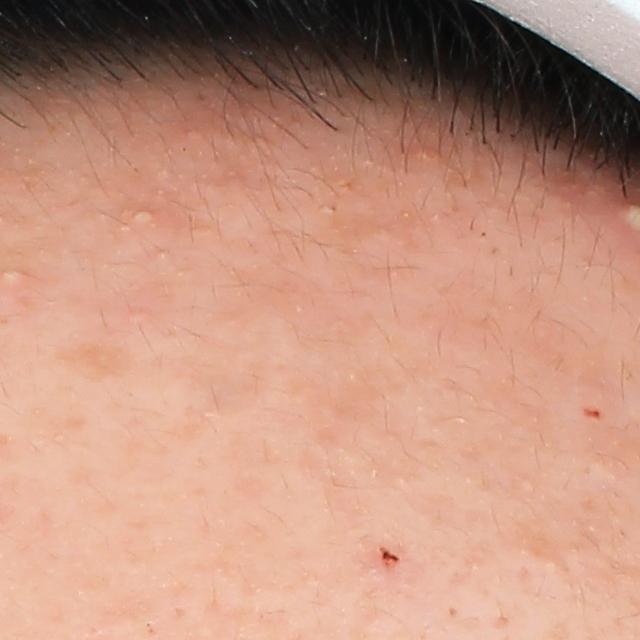comedo: (541, 556, 562, 575)
pustule: (126, 206, 154, 229)
